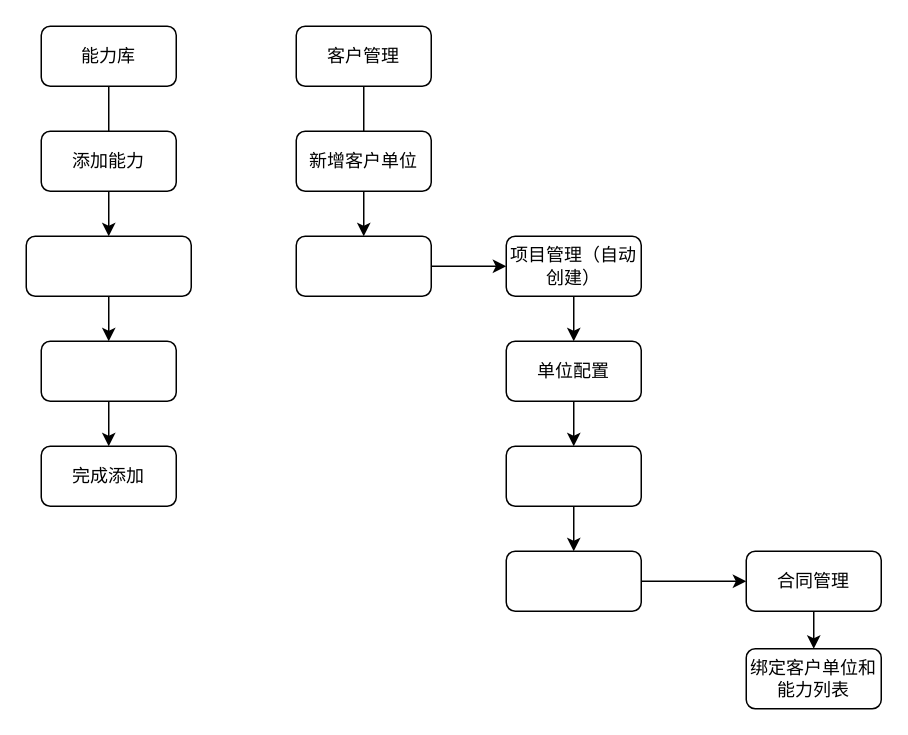
Image size: 908x735. Some labels were removed from this diagram. The centre of each missing label's shape, as x and y in pixels:
单独能力配置（从能力库）: (573,580)
新增其用户单位: (363,265)
确认来源（coze，AIHub）: (108,265)
统一能力配置（从能力库）: (573,475)
选择能力: (108,370)
